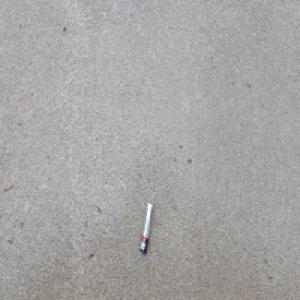Battery: (139, 199, 153, 256)
